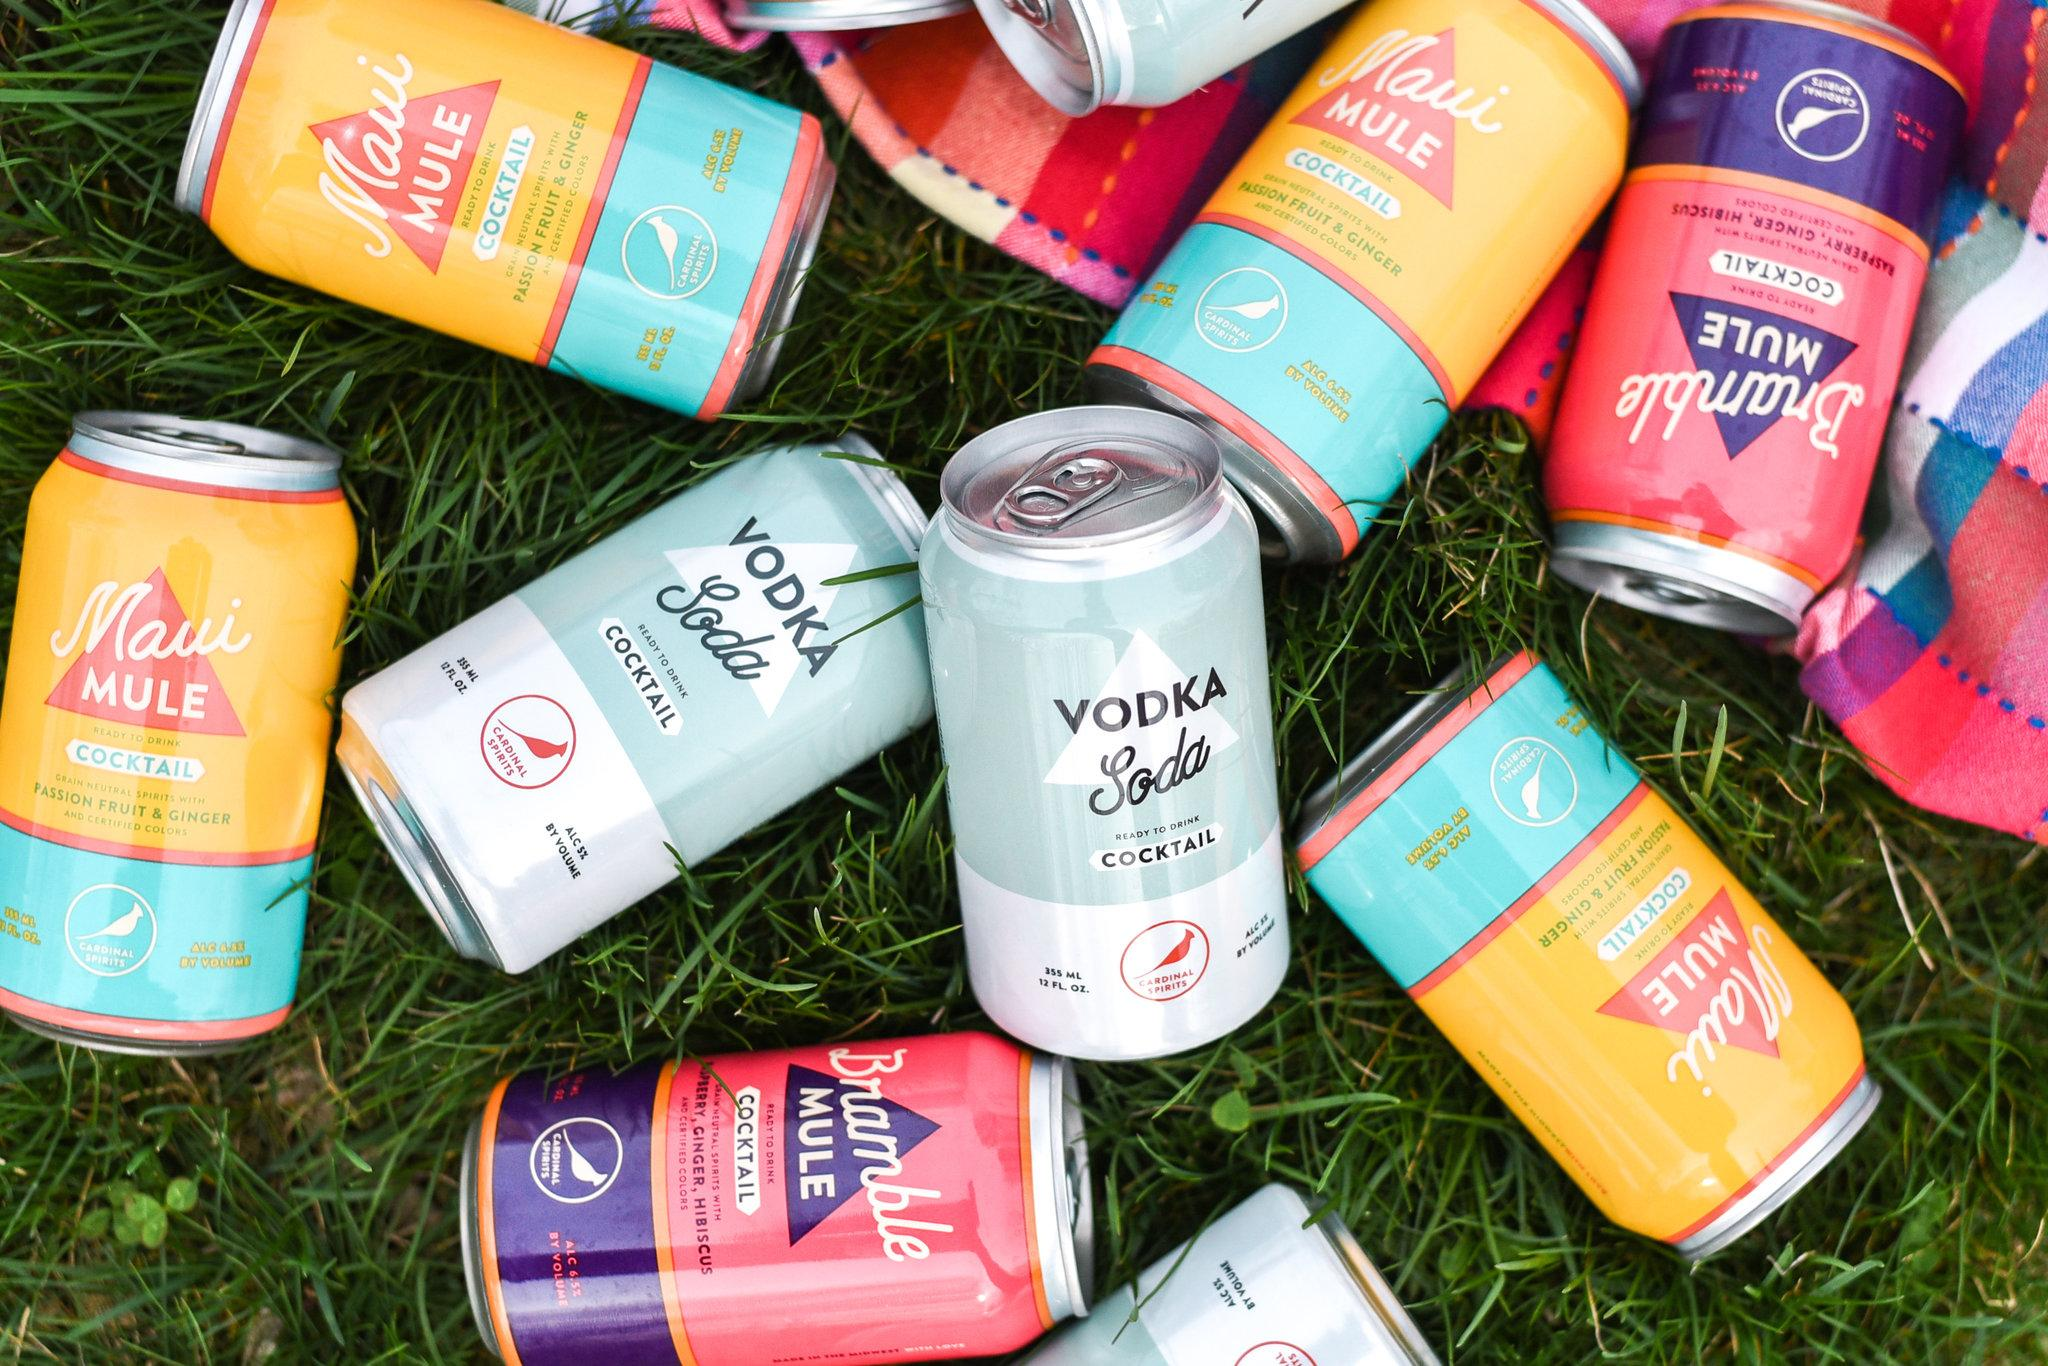can: (1295, 651, 1880, 1261), (335, 433, 933, 973), (1090, 0, 1640, 563), (175, 0, 834, 418), (1545, 0, 1963, 648), (919, 404, 1288, 1060), (0, 412, 355, 1055), (462, 1032, 1091, 1364), (1015, 1185, 1438, 1364), (974, 0, 1355, 114)
